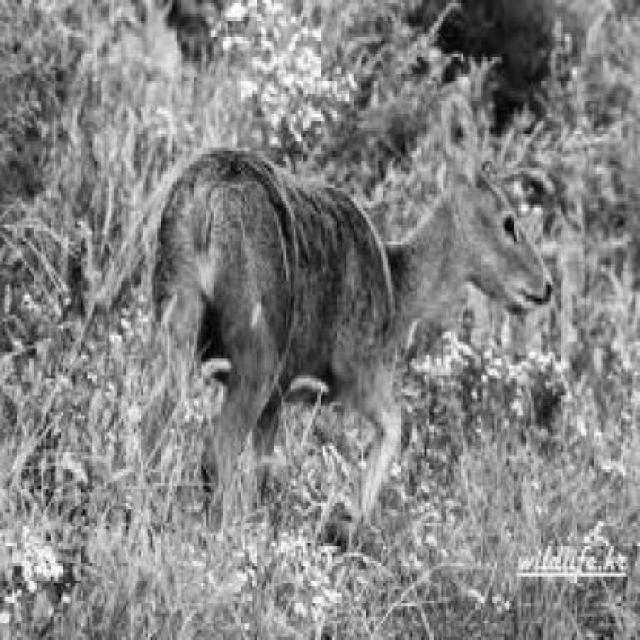Deer: (128, 82, 562, 544)
